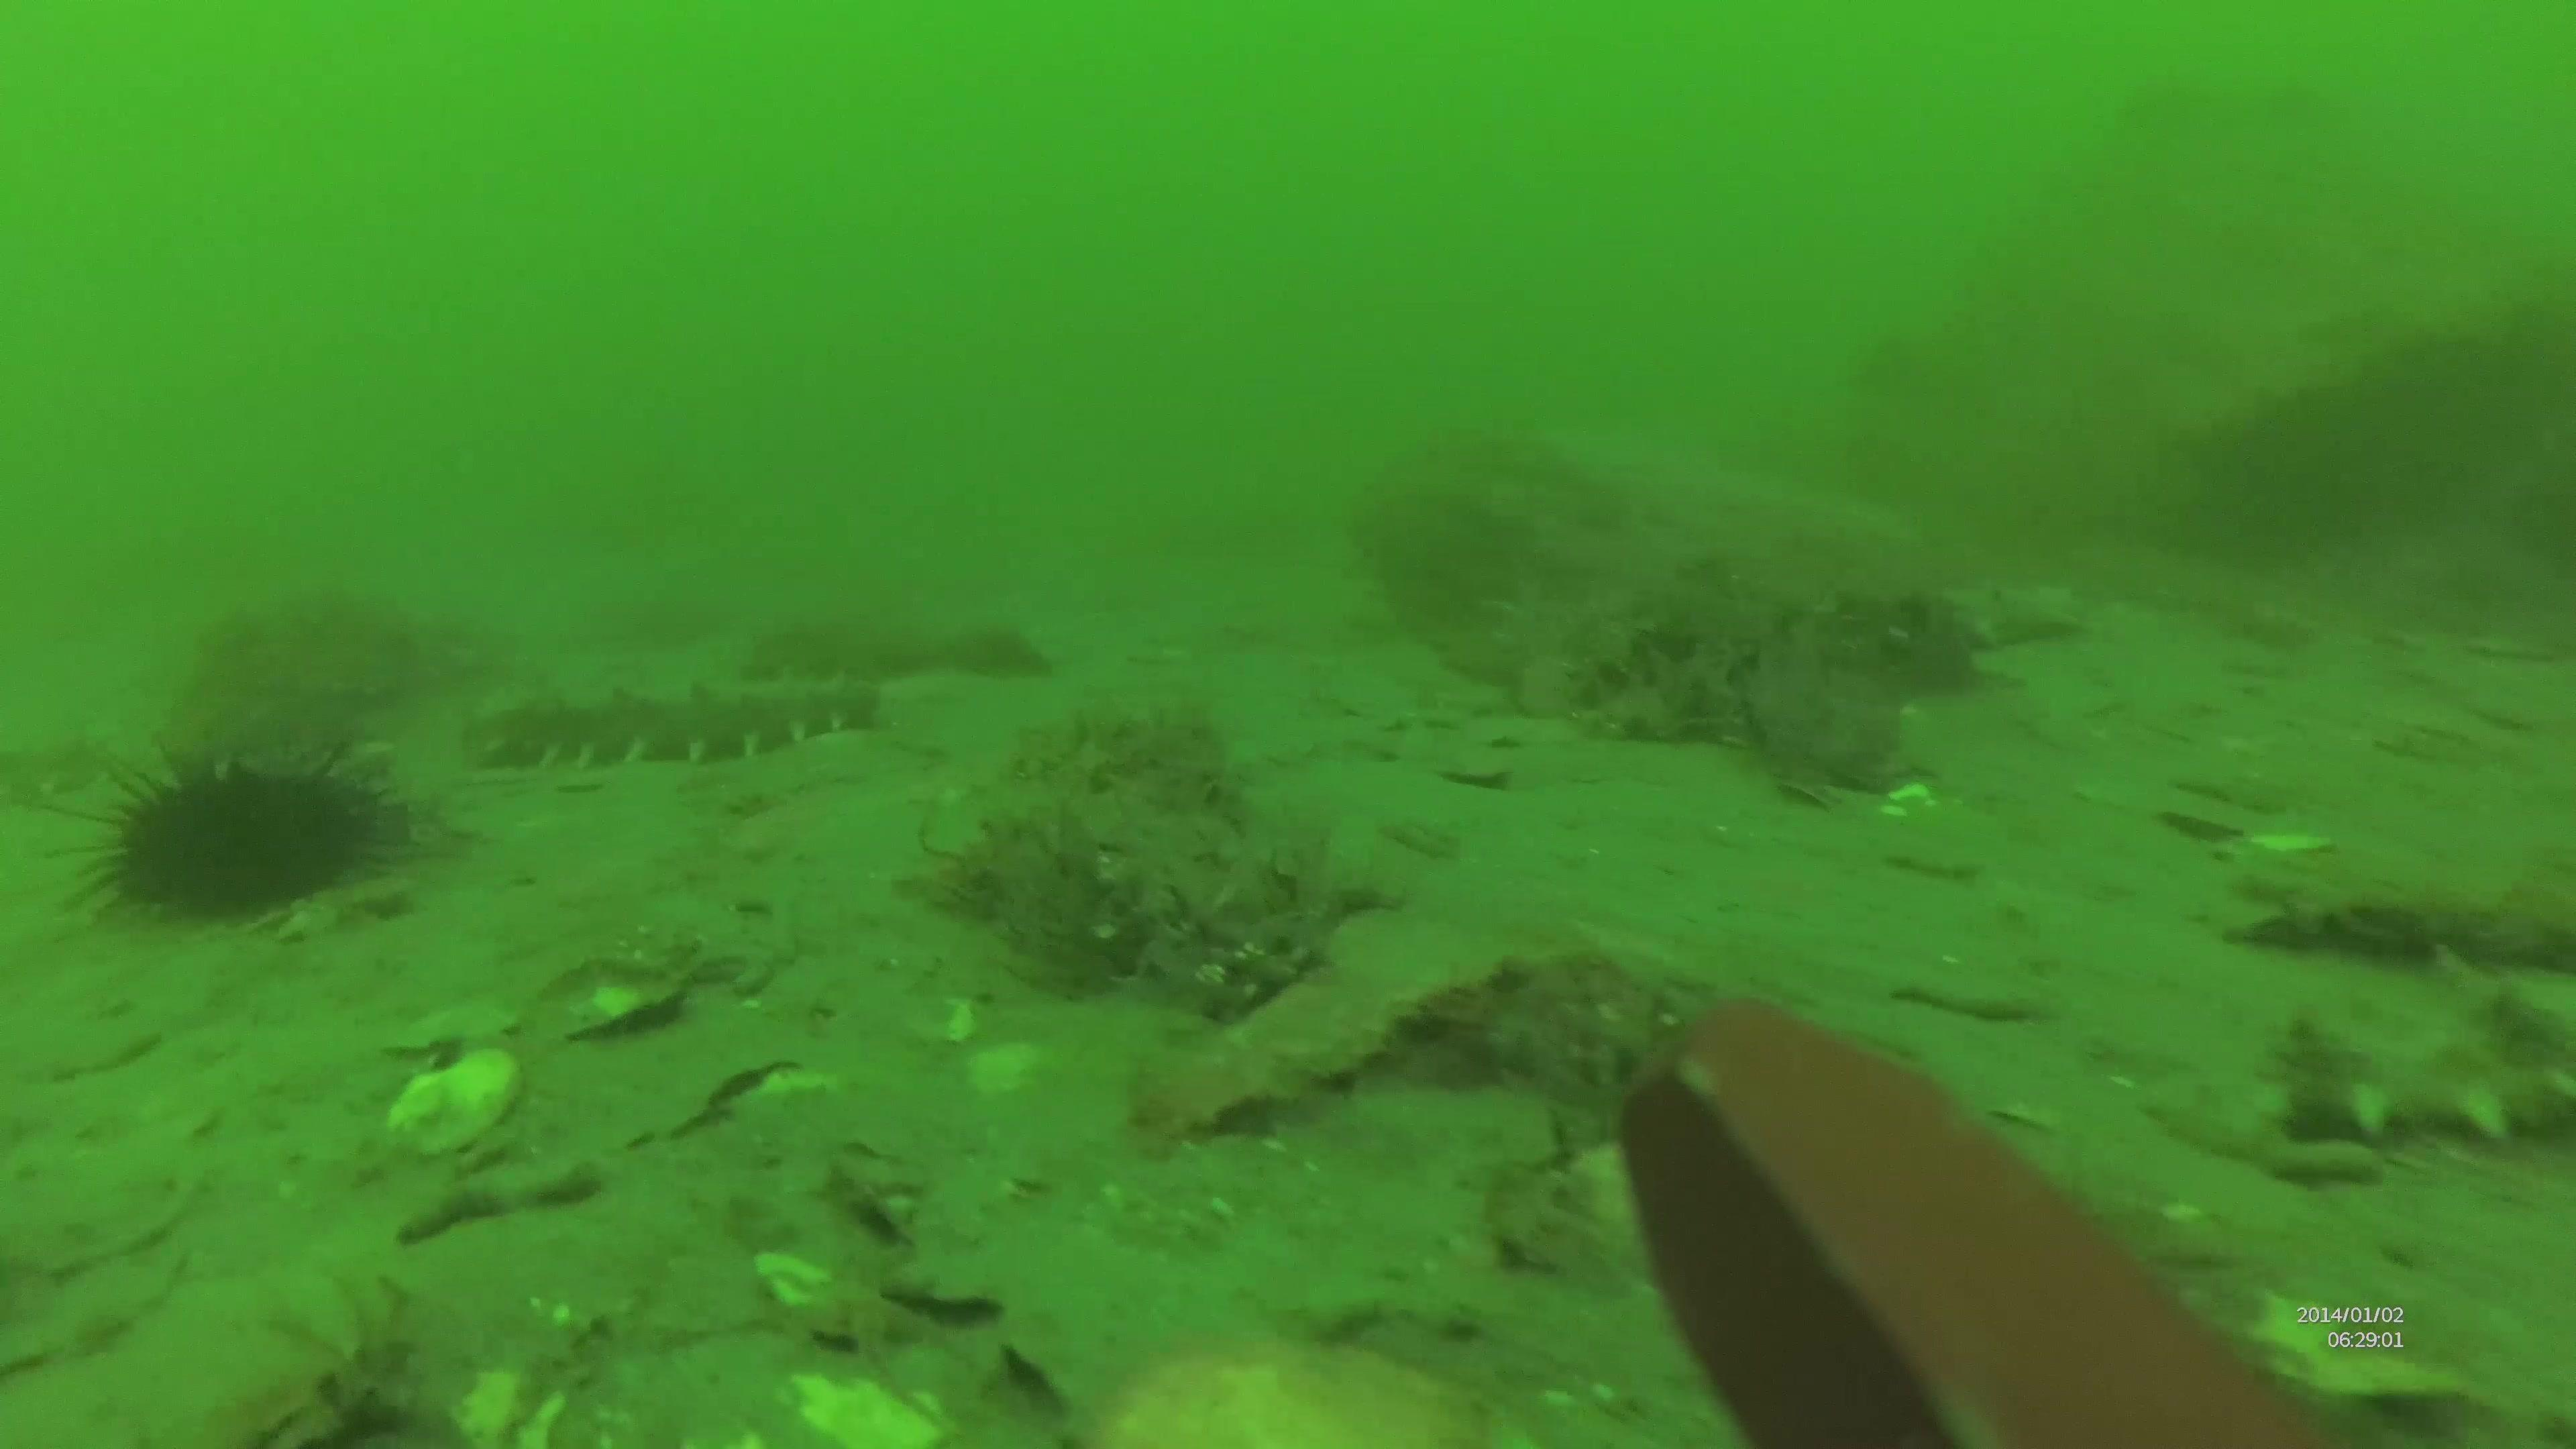echinus: (50, 740, 430, 929)
holothurian: (2273, 994, 2576, 1164), (460, 672, 902, 775)
